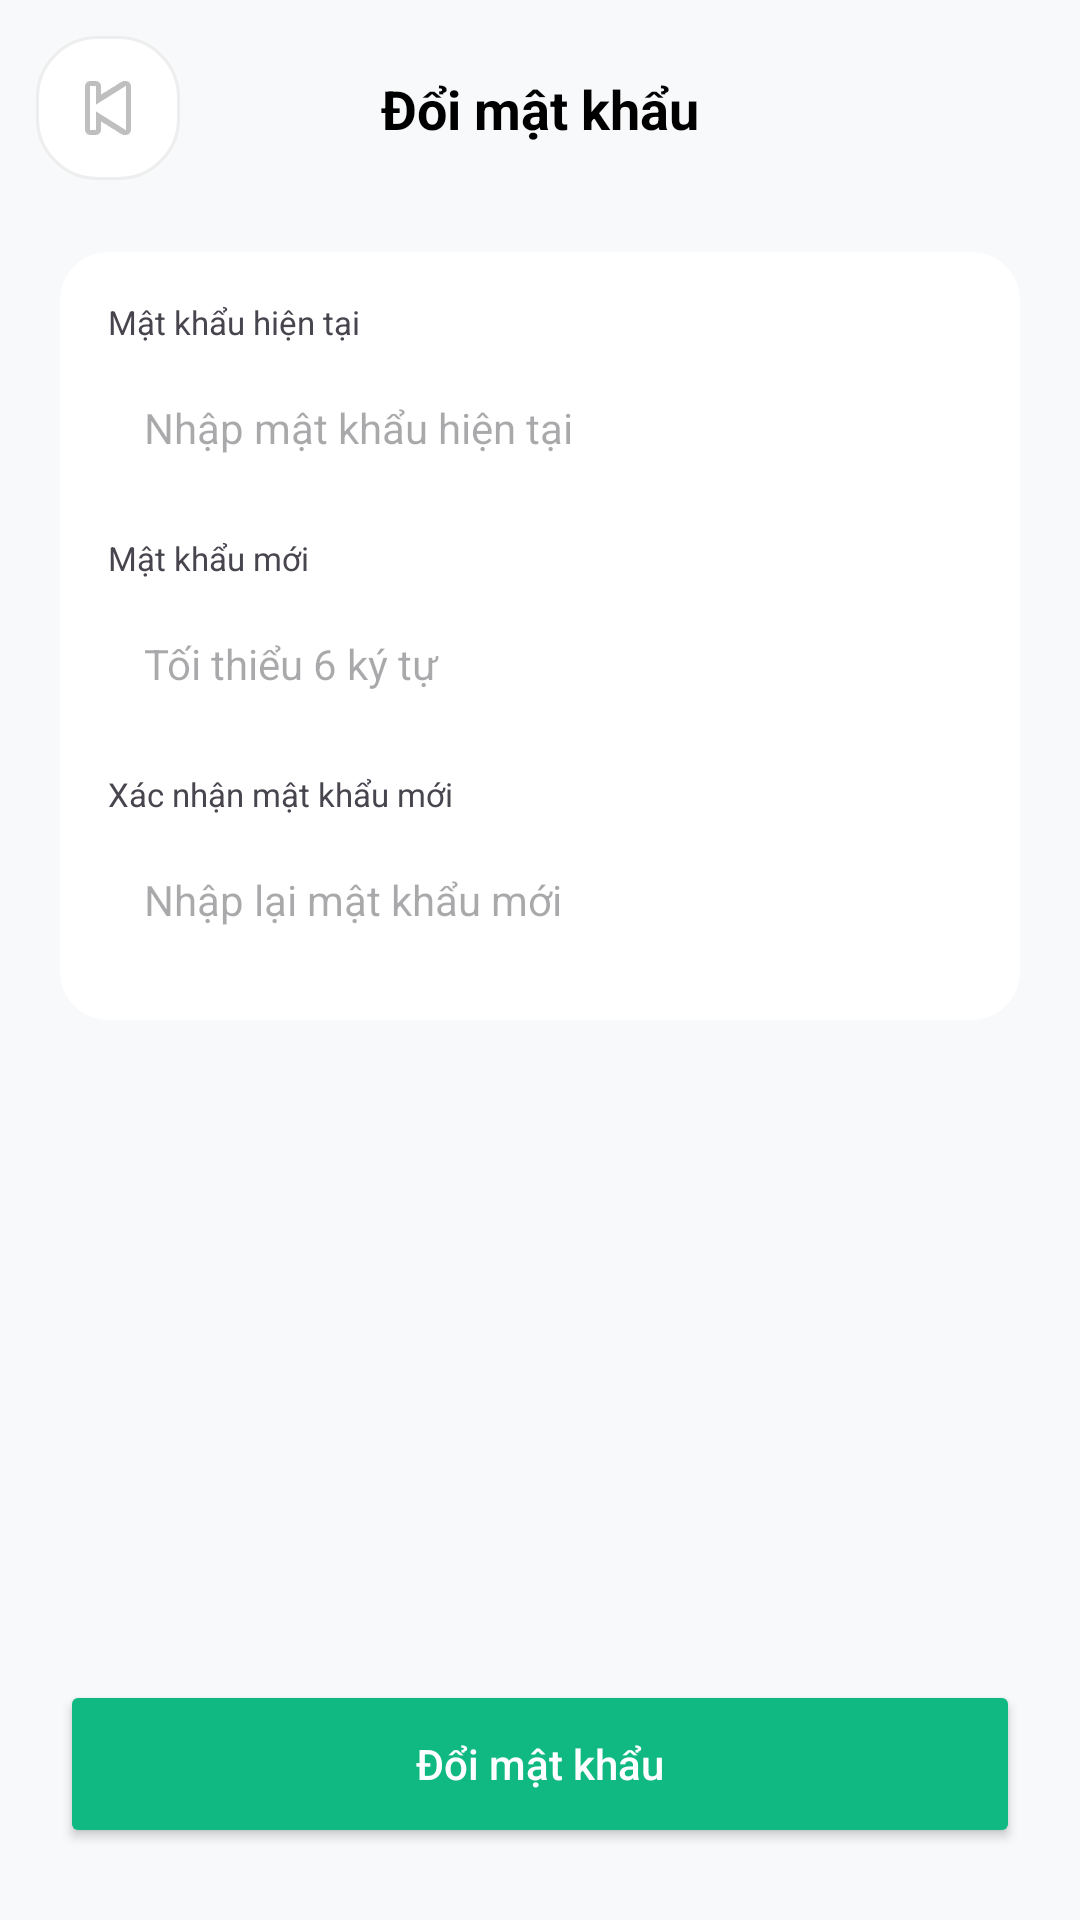

Icon bounding boxes for this 1080*1920 phone screenshot, format (x1, y1, x2, y2):
Quay lại: (85, 81, 131, 135)
